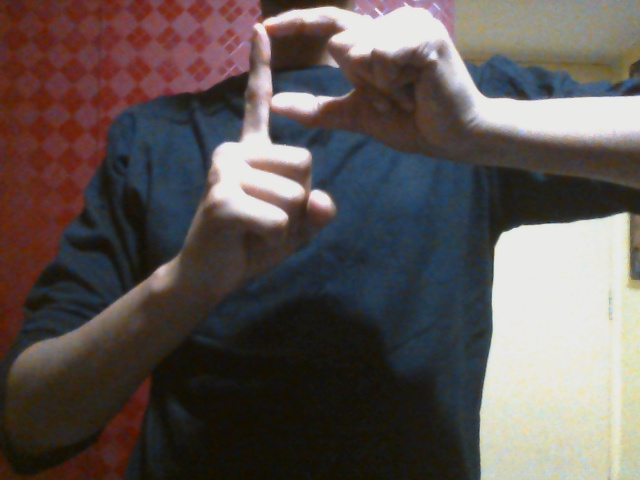P: (181, 5, 471, 311)
